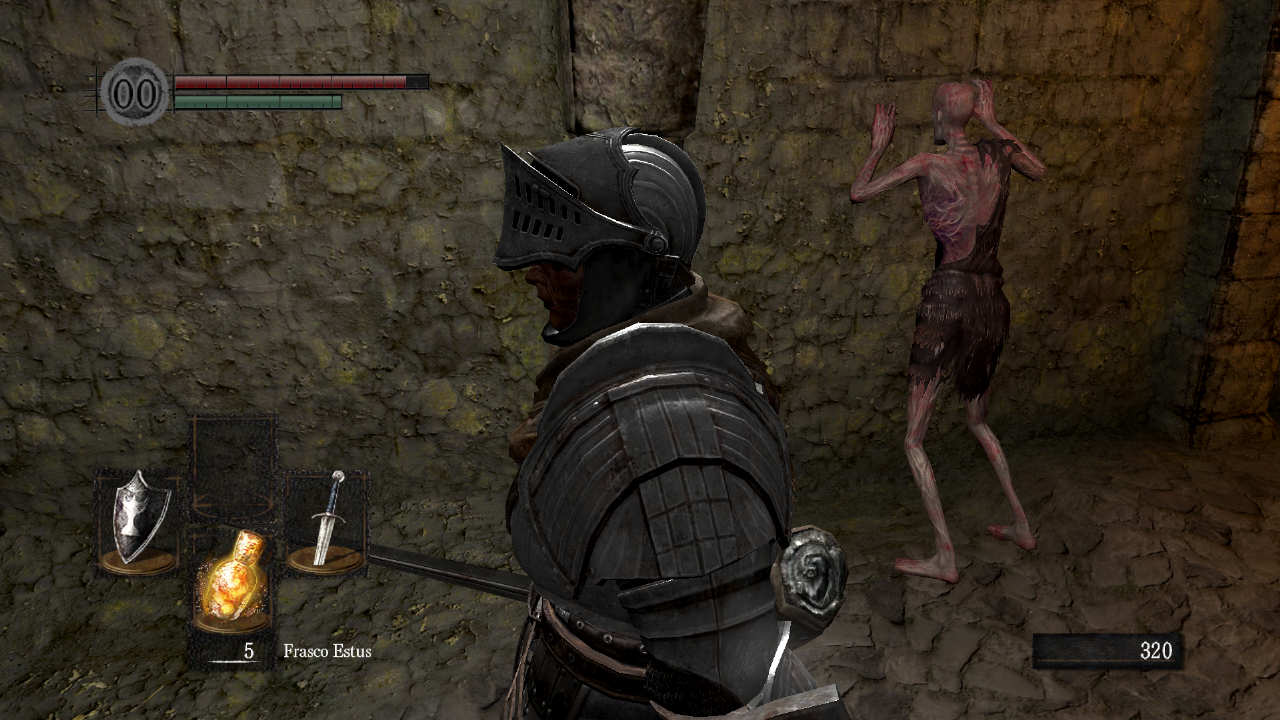hollow: (848, 77, 1048, 585)
player: (215, 127, 851, 720)
